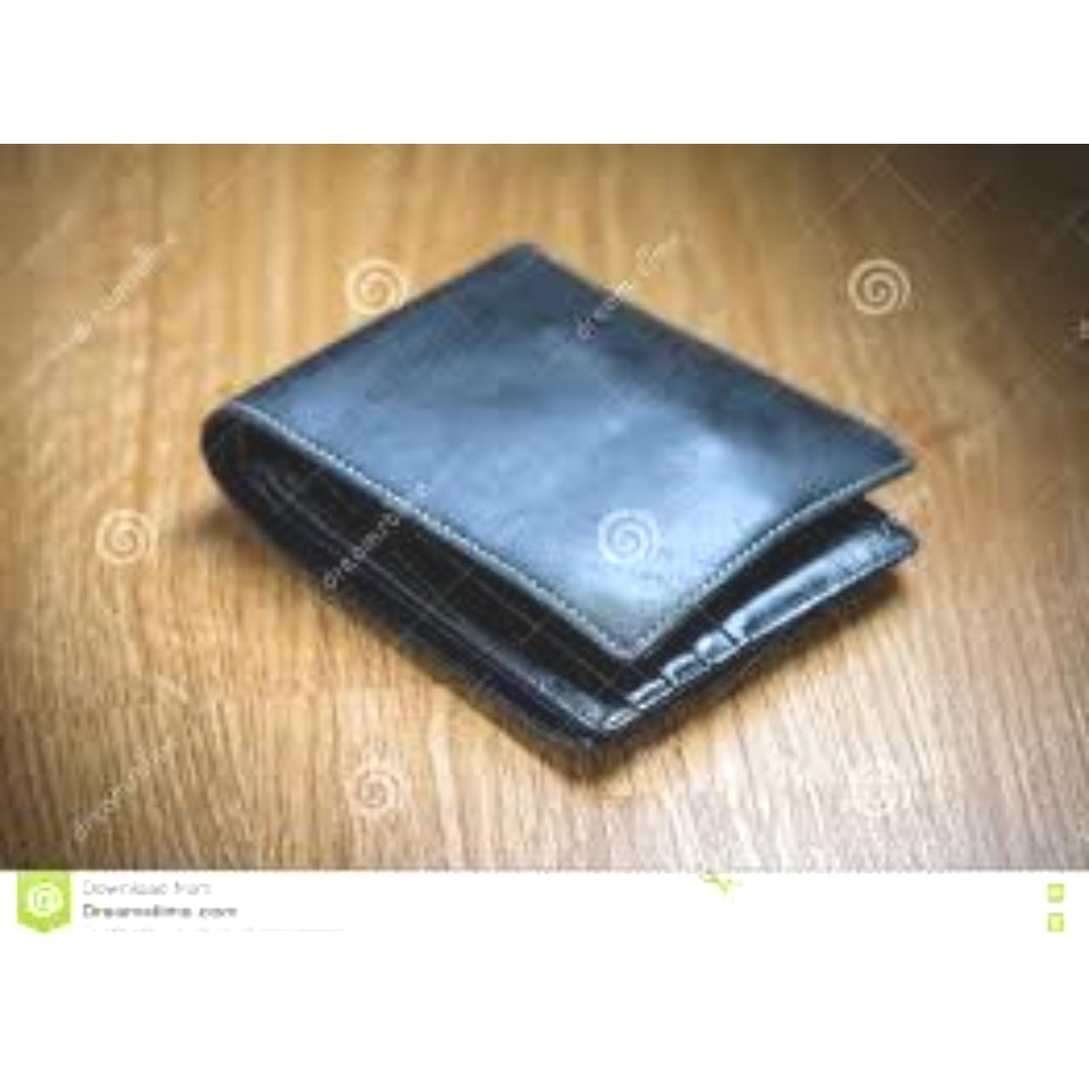wallet: (162, 165, 968, 763)
